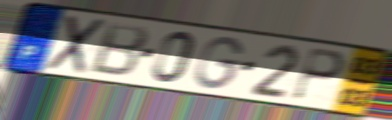0: (150, 29, 197, 85)
2: (248, 43, 299, 101)
B: (87, 20, 152, 79)
G: (194, 35, 246, 91)
P: (289, 46, 349, 103)
X: (43, 14, 109, 77)
